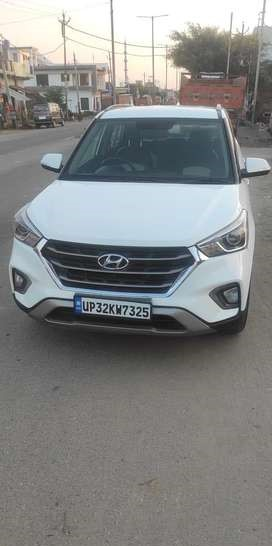UP32KW7325: (75, 295, 152, 320)
